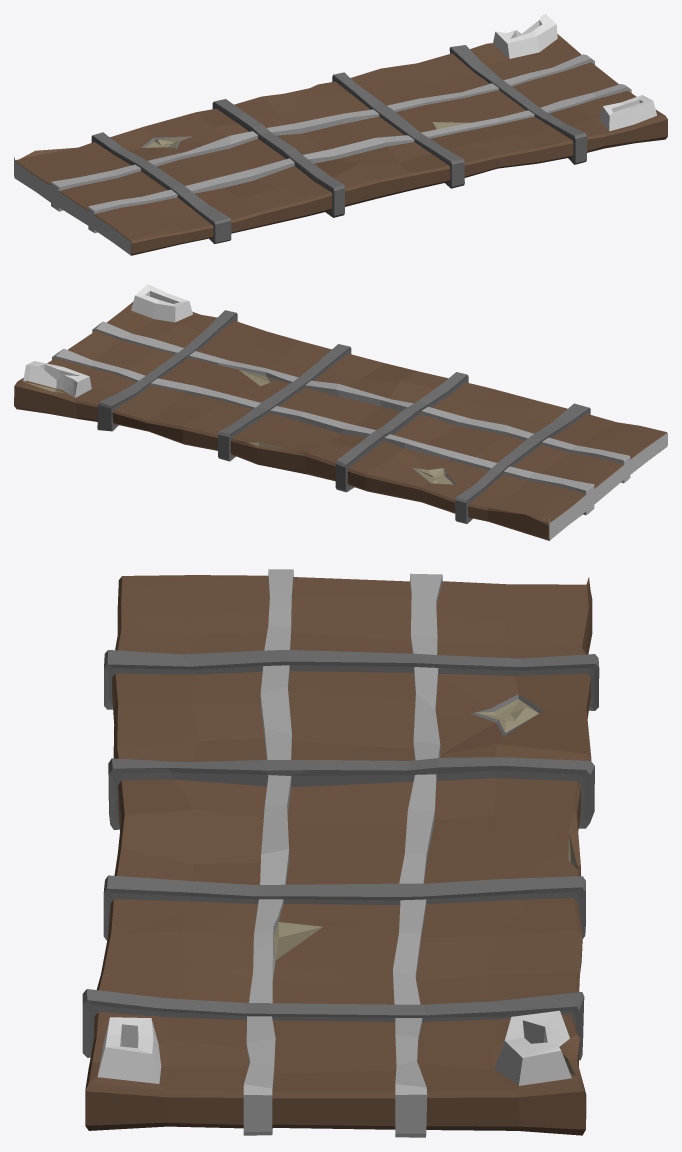
Rendered from Drawbridge.fbx.
The picture shows the model from 3 angles, top to bottom: view 1: azimuth 30°, elevation 25°; view 2: azimuth 150°, elevation 25°; view 3: azimuth 270°, elevation 25°; orthographic projection. The views are drawn at different scales.
Parts seen in each view (by area): view 1: Drawbridge; view 2: Drawbridge; view 3: Drawbridge.
Part boxes in pixels (x1,y1,x2,y2): Drawbridge: [14, 14, 667, 255]; Drawbridge: [14, 284, 667, 540]; Drawbridge: [82, 569, 599, 1137].
Size of the model in its own units: 1516 by 120 by 637.
